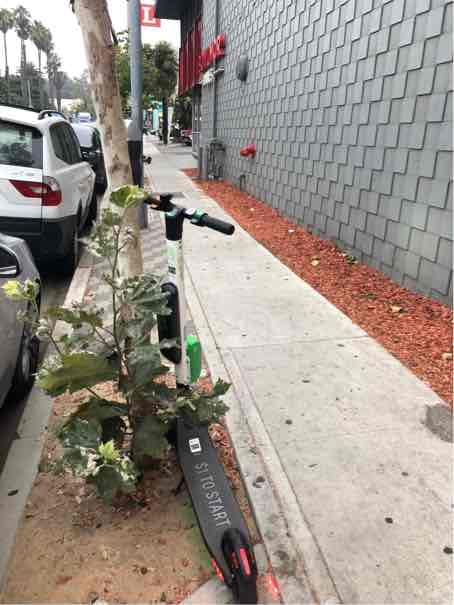scooter: (121, 175, 303, 605)
